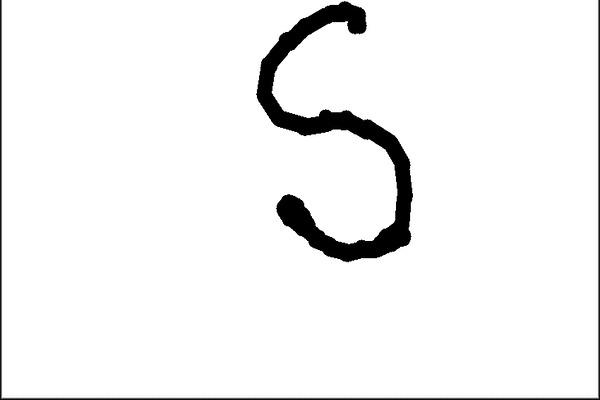S: (242, 0, 420, 270)
